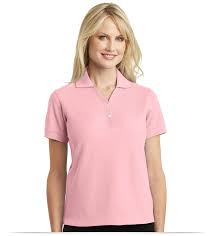S_polo shirt: (34, 75, 175, 235)
